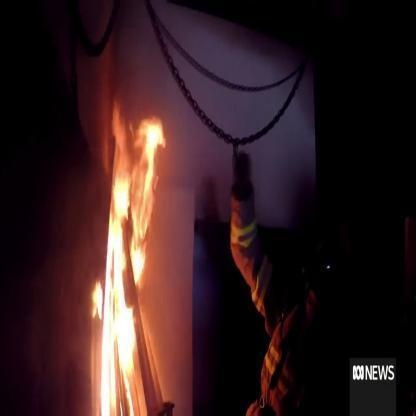fire: (84, 96, 182, 416)
